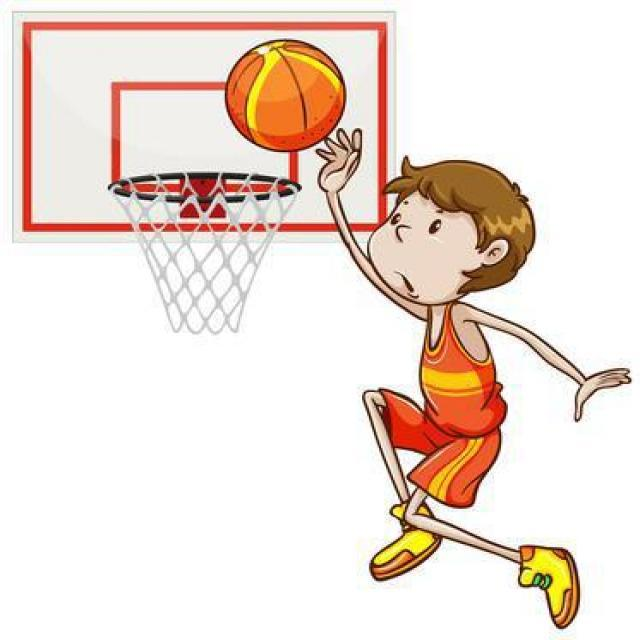Basketball: (226, 38, 346, 152)
hoop: (108, 171, 301, 333)
